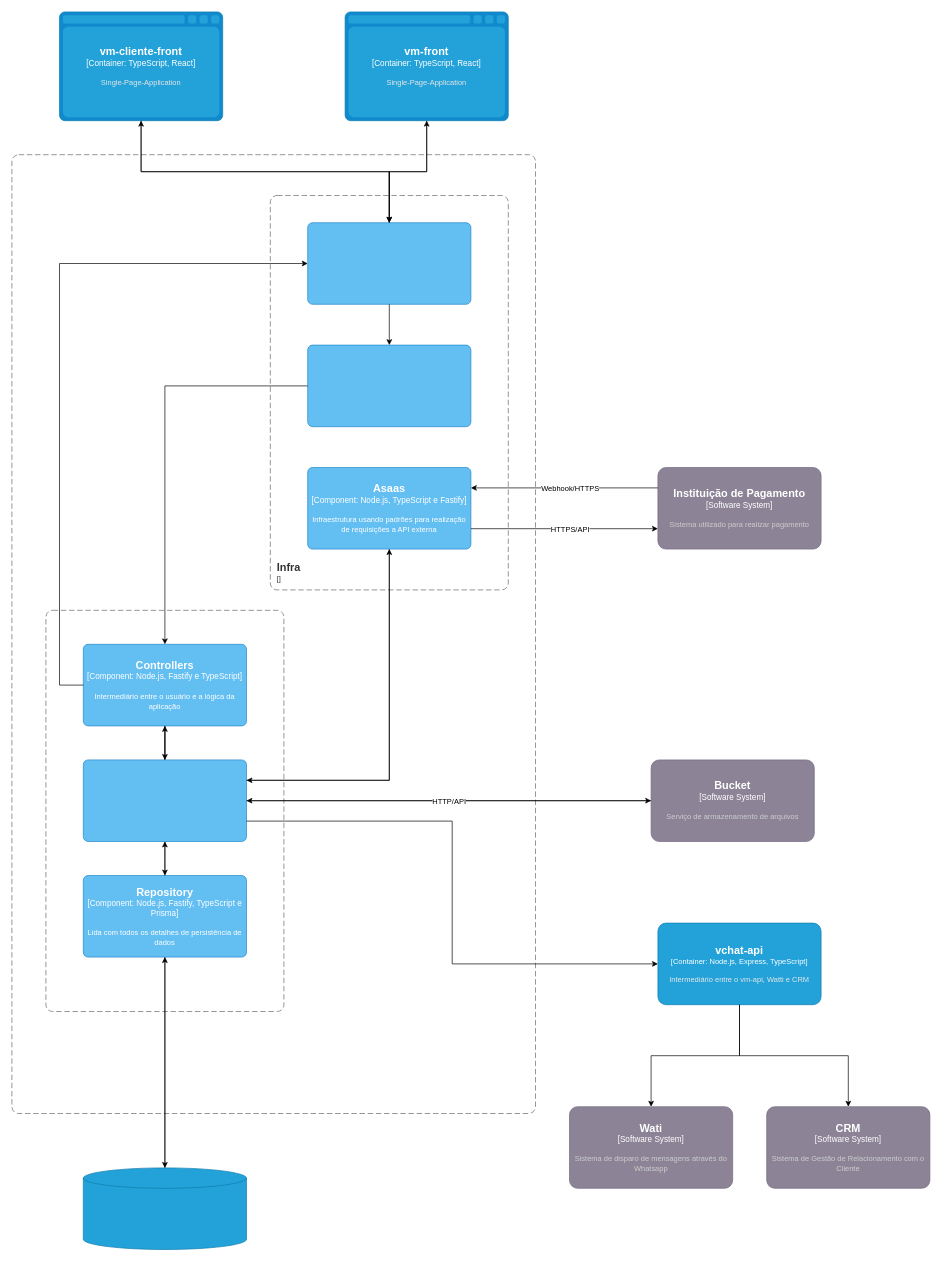
Some shapes in this 942 by 1261 pixel diagram are drawn without their labels. The shapes that lost their labels are listed below. From the top down, each one's box as (x1, y1, x2, y2) in pixels, then its label:
(307, 222, 471, 304): Router [Component: e.g. Spring Service] Rotas existentes na aplicação
(307, 344, 471, 427): Middleware [Component: Node.js, TypeScript e Fastify] Controle de acesso e ações
(11, 154, 536, 1114): vm-api [Container]
(45, 610, 284, 1012): Modulos []
(83, 759, 247, 842): Services [Component: Node.js, Fastify e TypeScript] Regra de negócio
(83, 1167, 247, 1250): Banco de Dados [Container: PostgreSQL]
